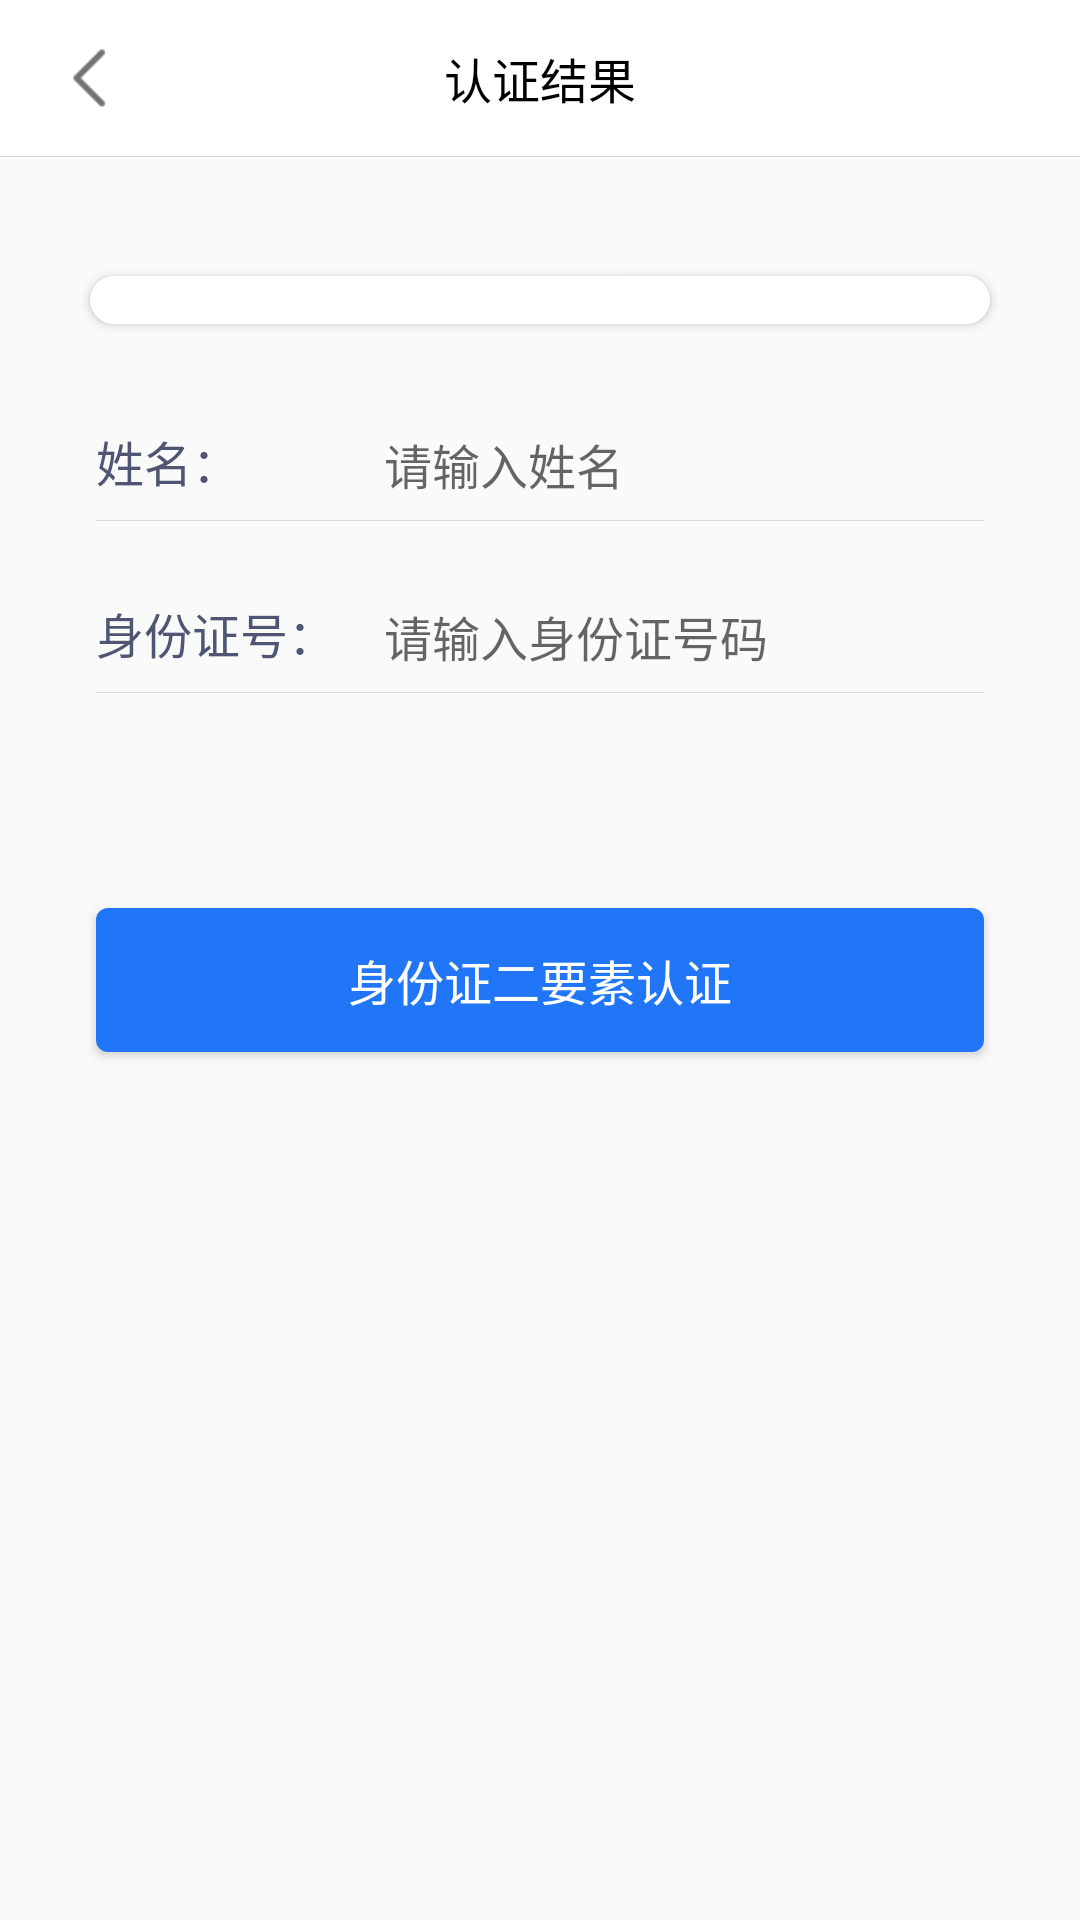

Where to tap for icons on this 1080px×1920px app screen, as point (x, y):
back: point (89, 78)
